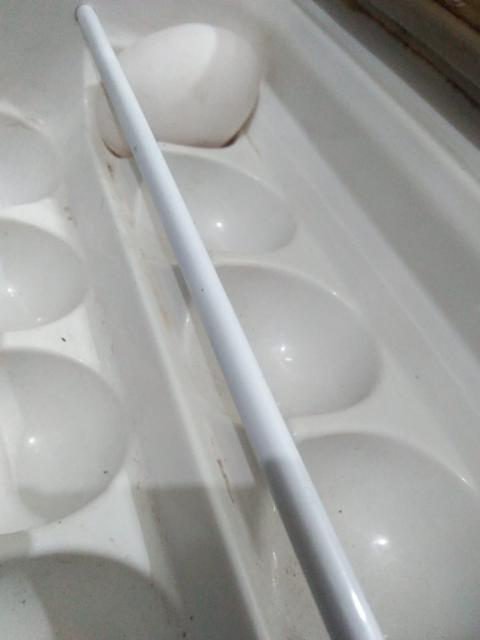Sano: (95, 20, 259, 157)
